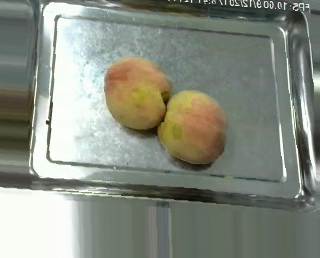Peach: (159, 87, 228, 164), (103, 56, 171, 131)
